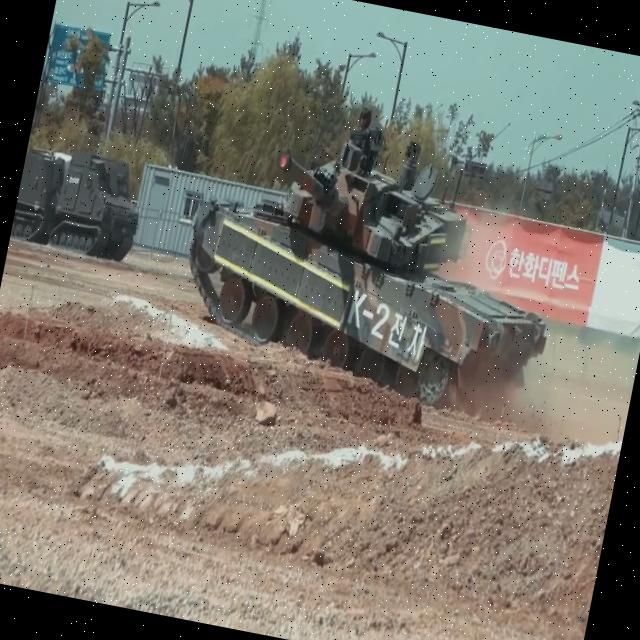korea tank: (166, 75, 585, 422)
